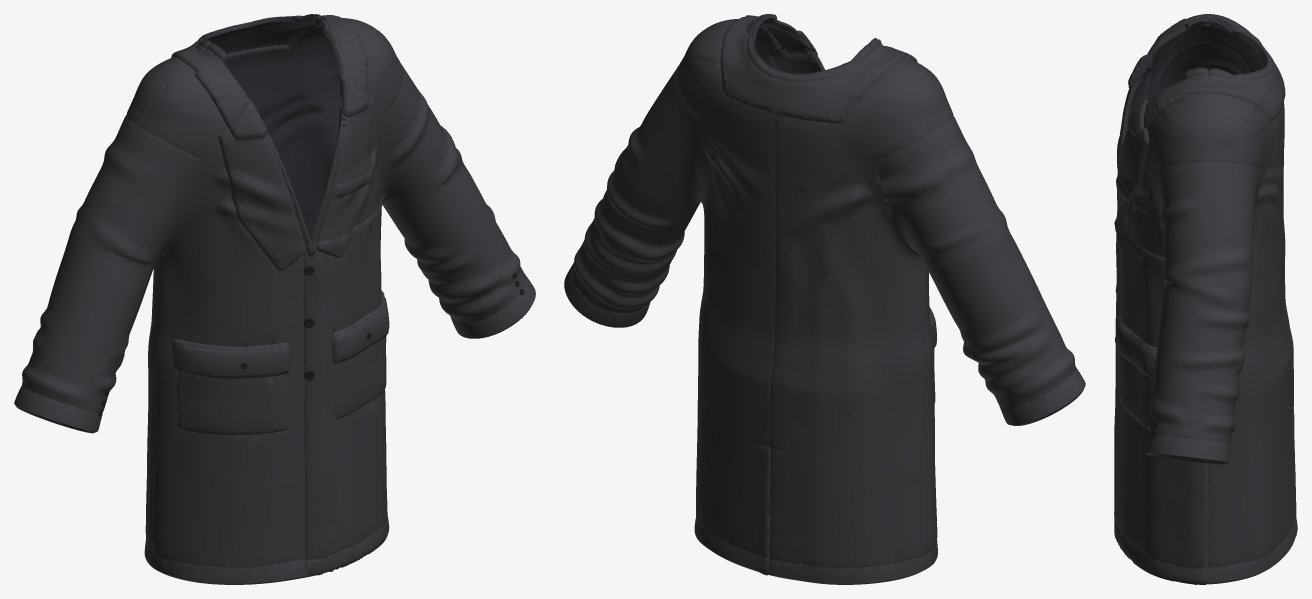
The model's file is 02_abrigo_lana_pbr.glb.
3 views of the same model, side by side, from view 1: azimuth 30°, elevation 25°; view 2: azimuth 150°, elevation 25°; view 3: azimuth 270°, elevation 25° (orthographic). The views are drawn at different scales.
Visible parts, largest first — view 1: Camiseta PBR; view 2: Camiseta PBR; view 3: Camiseta PBR.
Part boxes in pixels (x1,y1,x2,y2): Camiseta PBR: (14,14,535,584); Camiseta PBR: (564,14,1085,584); Camiseta PBR: (1114,14,1297,584).
Bounding box in the file's own units: 1.07 × 1.03 × 0.3497.
Materials: 2 (1 with a texture image).
